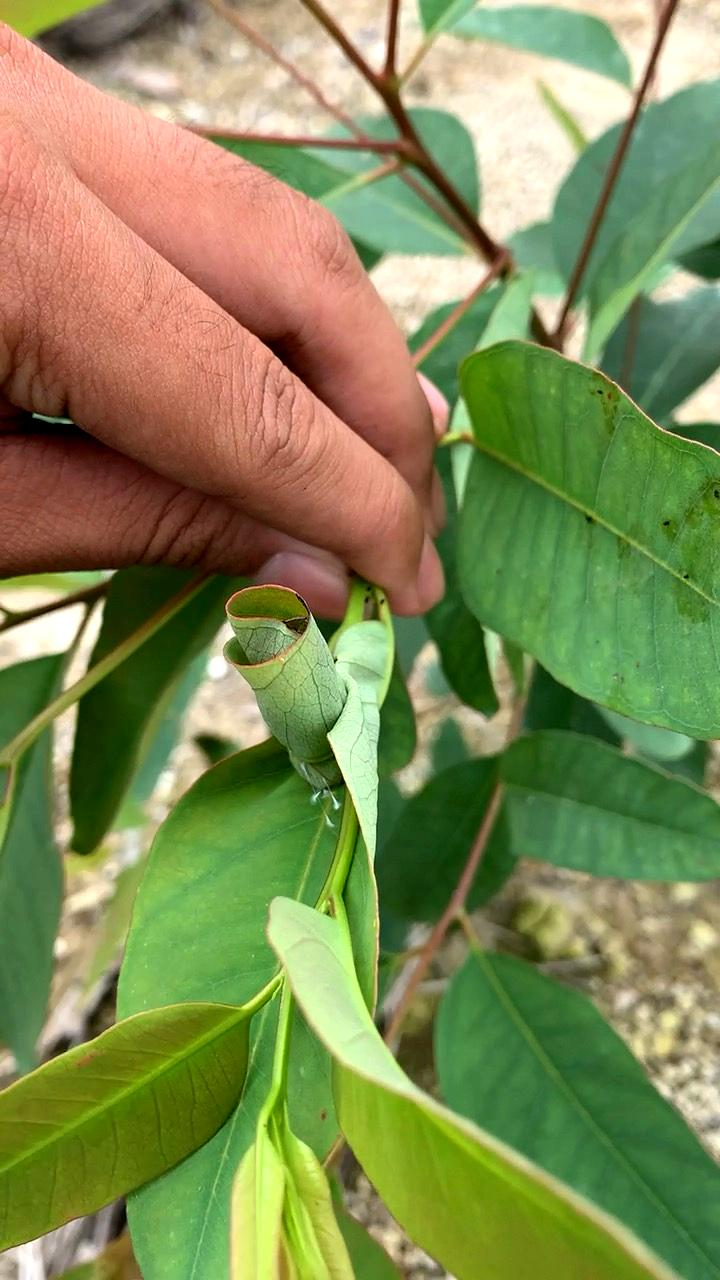Leaf Roller - Leaf: (210, 570, 383, 830)
